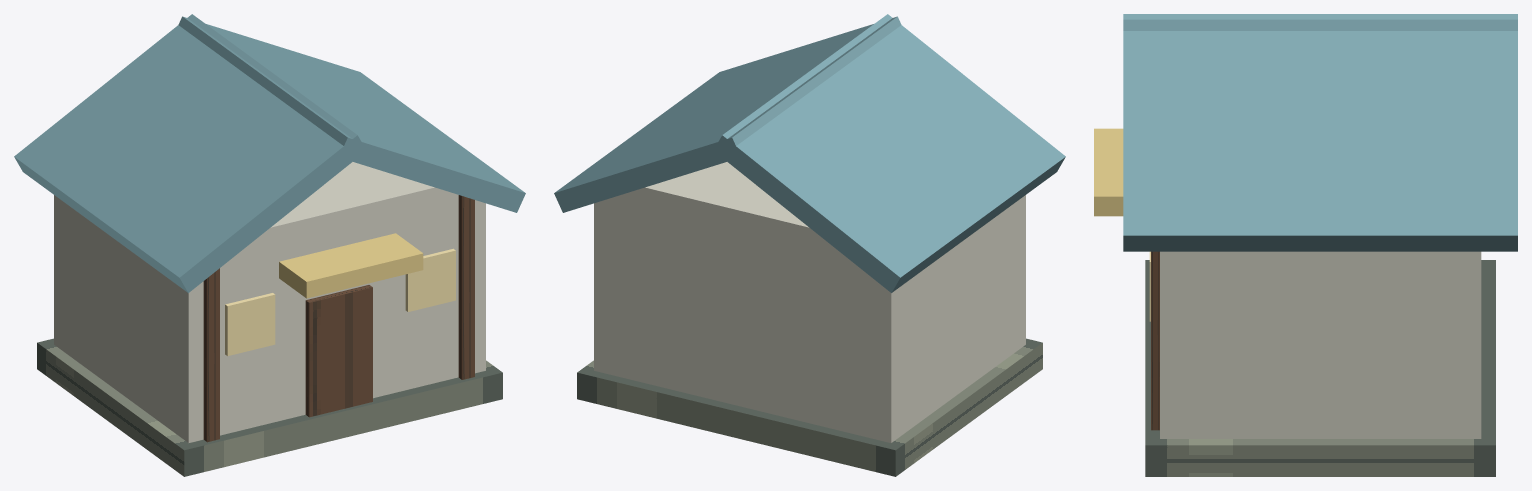
Rendered from building_townhall.glb.
The picture shows the model from 3 angles, left to right: view 1: azimuth 30°, elevation 25°; view 2: azimuth 150°, elevation 25°; view 3: azimuth 270°, elevation 25°; orthographic projection. The views are drawn at different scales.
Parts seen in each view (by area): view 1: Body.002, Roof.004, Roof.005, Foundation.002, Door.002, Entrance_lintel, Timber.005, Timber.004, Window.004, Window.005; view 2: Body.002, Roof.004, Roof.005, Foundation.002; view 3: Roof.005, Body.002, Foundation.002, Roof.004, Entrance_lintel, Timber.005.
Boxes of the visible parts, left/top/right/bottom form: Body.002: left=54, top=162, right=485, bottom=442; Roof.004: left=14, top=14, right=366, bottom=292; Roof.005: left=178, top=16, right=525, bottom=212; Foundation.002: left=37, top=338, right=502, bottom=476; Door.002: left=305, top=285, right=372, bottom=417; Entrance_lintel: left=279, top=233, right=423, bottom=298; Timber.005: left=458, top=195, right=474, bottom=379; Timber.004: left=203, top=268, right=219, bottom=442; Window.004: left=225, top=293, right=275, bottom=356; Window.005: left=405, top=248, right=455, bottom=311; Body.002: left=594, top=162, right=1025, bottom=442; Roof.004: left=713, top=14, right=1065, bottom=292; Roof.005: left=554, top=16, right=901, bottom=212; Foundation.002: left=577, top=338, right=1042, bottom=476; Roof.005: left=1123, top=14, right=1517, bottom=251; Body.002: left=1160, top=251, right=1481, bottom=438; Foundation.002: left=1145, top=260, right=1495, bottom=476; Roof.004: left=1123, top=19, right=1517, bottom=30; Entrance_lintel: left=1094, top=128, right=1123, bottom=216; Timber.005: left=1151, top=251, right=1159, bottom=430.
Size of the model in its own units: 3.26 by 2.78 by 2.9.
6 materials, 2 textured.
